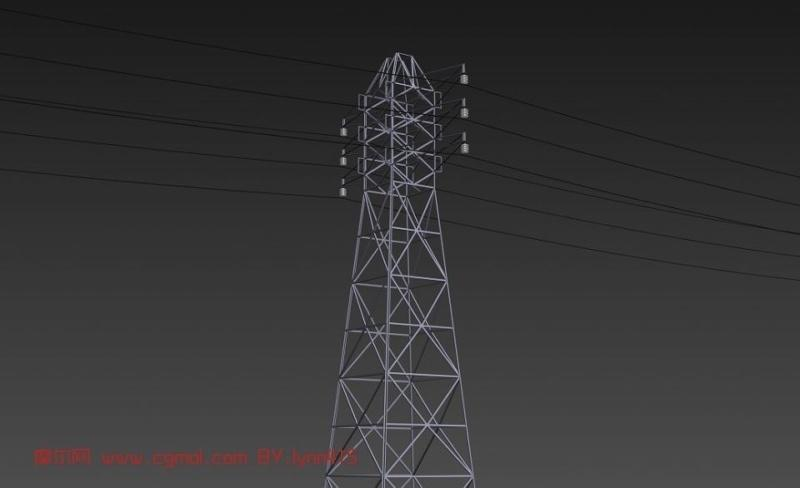power_tower: (325, 40, 500, 483)
